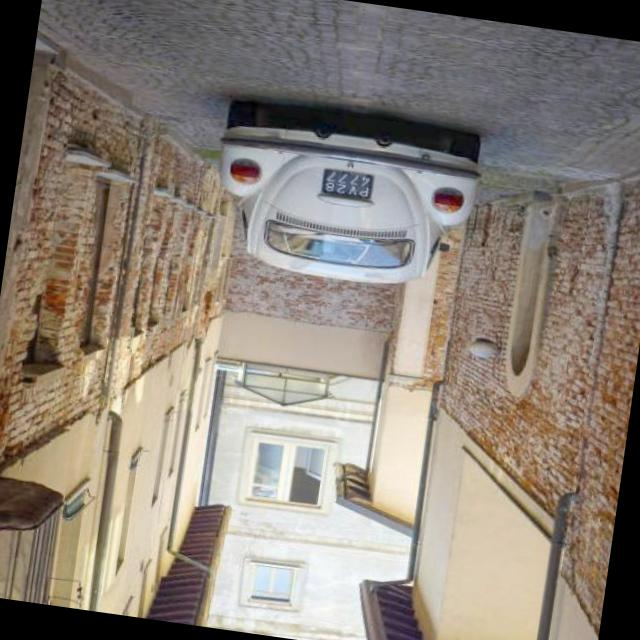car: (196, 109, 491, 311)
